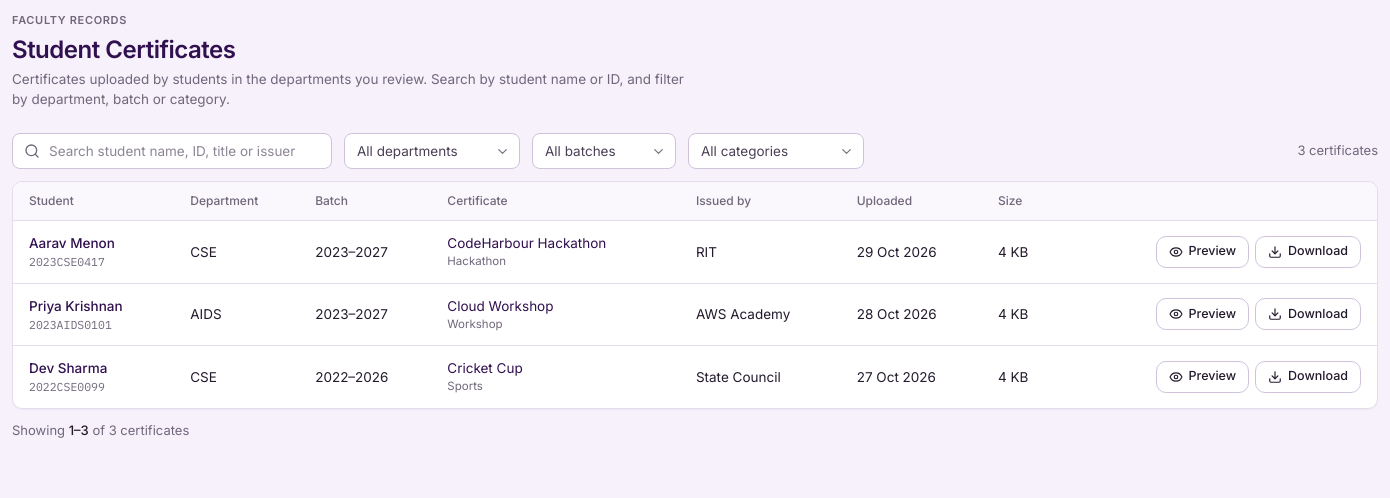
it: faculty › say when nothing matches, and clear the filters in one click
This screenshot has width=1390, height=498.
Step 1. Type "nobody-by-that-name" into the search field named "Search certificates" → (172, 151), box [12,133,332,169]
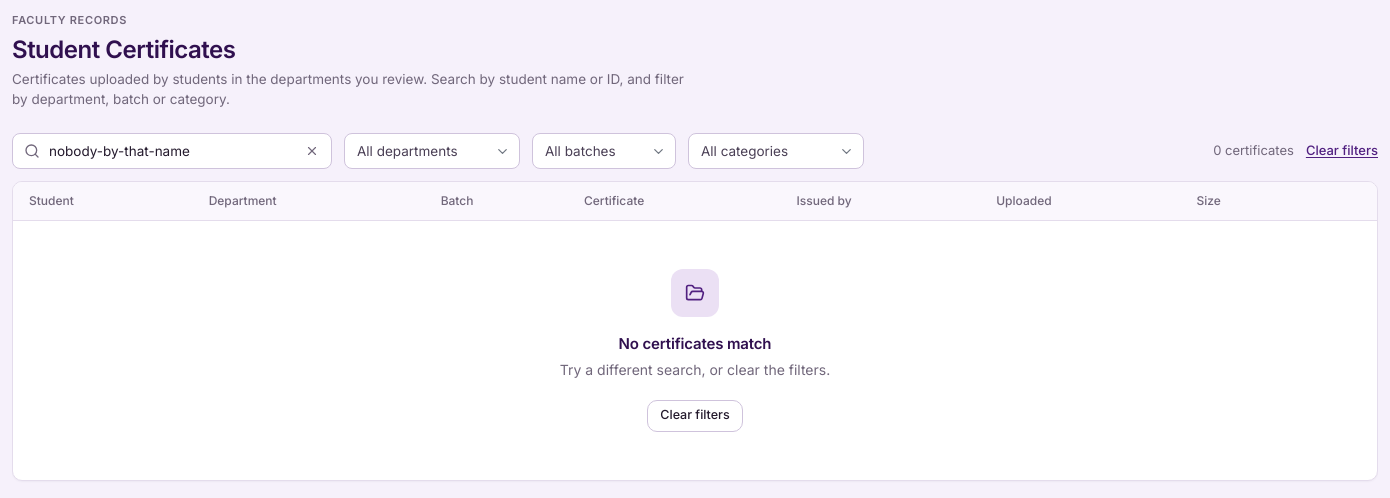
Expected: the text "No certificates match" is shown, [619,333,771,356]
Step 2. Click the button "Clear filters" next to "0 certificates" → (1342, 151), box [1306,141,1378,161]
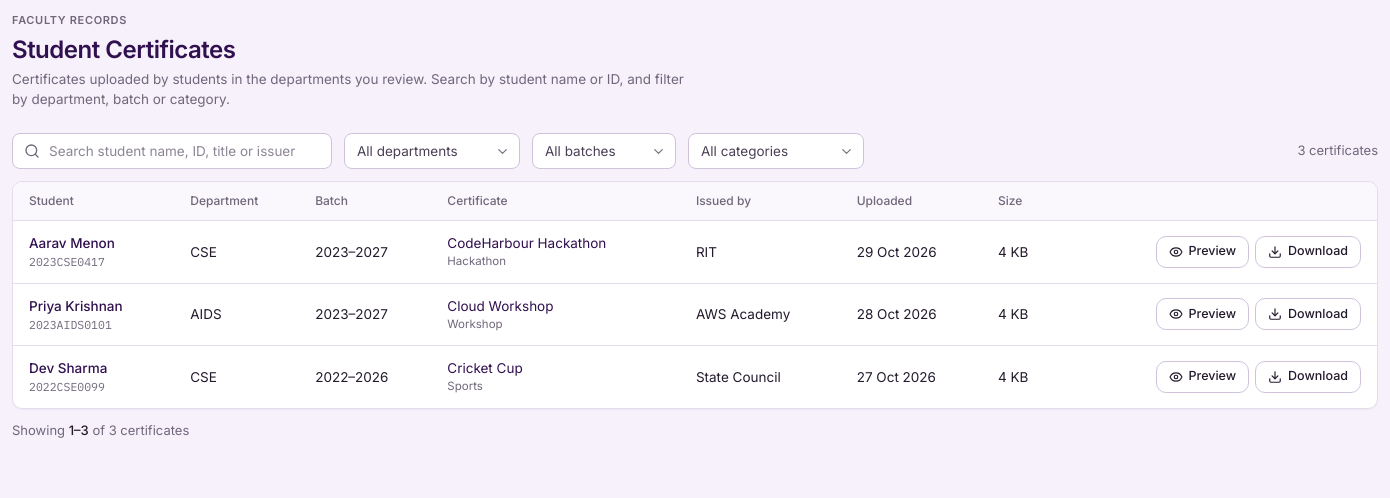
Expected: the search field named "Search certificates" is empty, [12,133,332,169]
